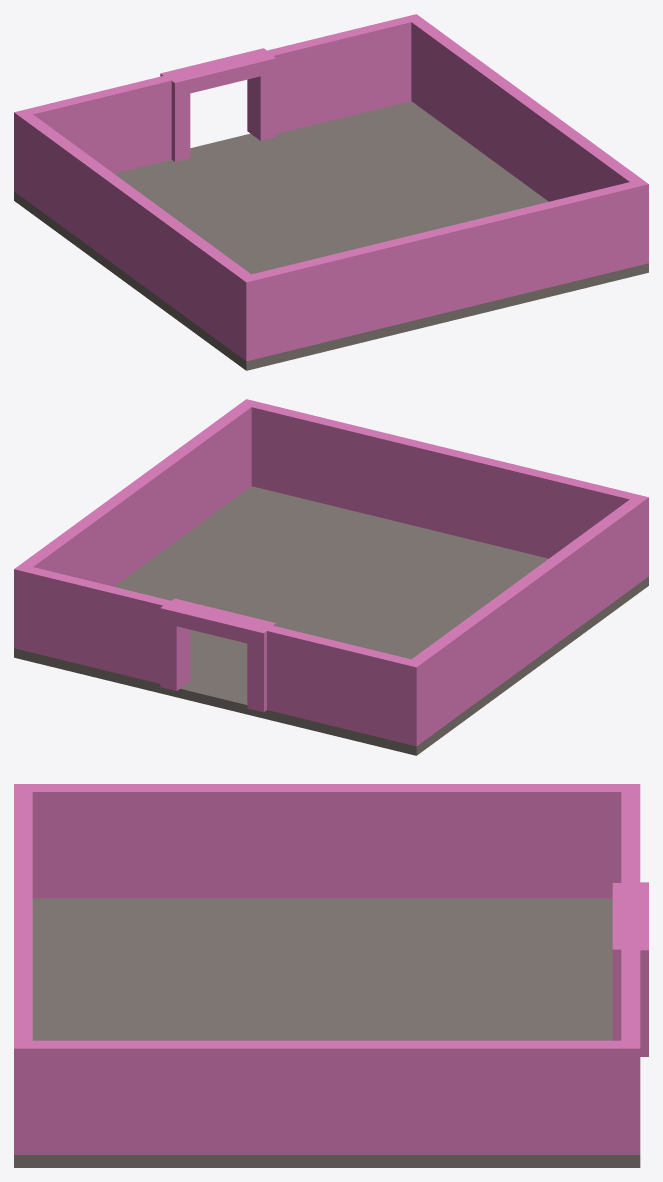
The model's file is room_1way.fbx.
The picture shows the model from 3 angles, top to bottom: view 1: azimuth 30°, elevation 25°; view 2: azimuth 150°, elevation 25°; view 3: azimuth 270°, elevation 25°; orthographic projection. The views are drawn at different scales.
Parts seen in each view (by area): view 1: room_1way; view 2: room_1way; view 3: room_1way.
Part boxes in pixels (bbox=[...]): room_1way: bbox=[14, 14, 648, 370]; room_1way: bbox=[14, 399, 648, 755]; room_1way: bbox=[14, 784, 648, 1167].
Bounding box in the file's own units: 2000 × 420 × 2028.
